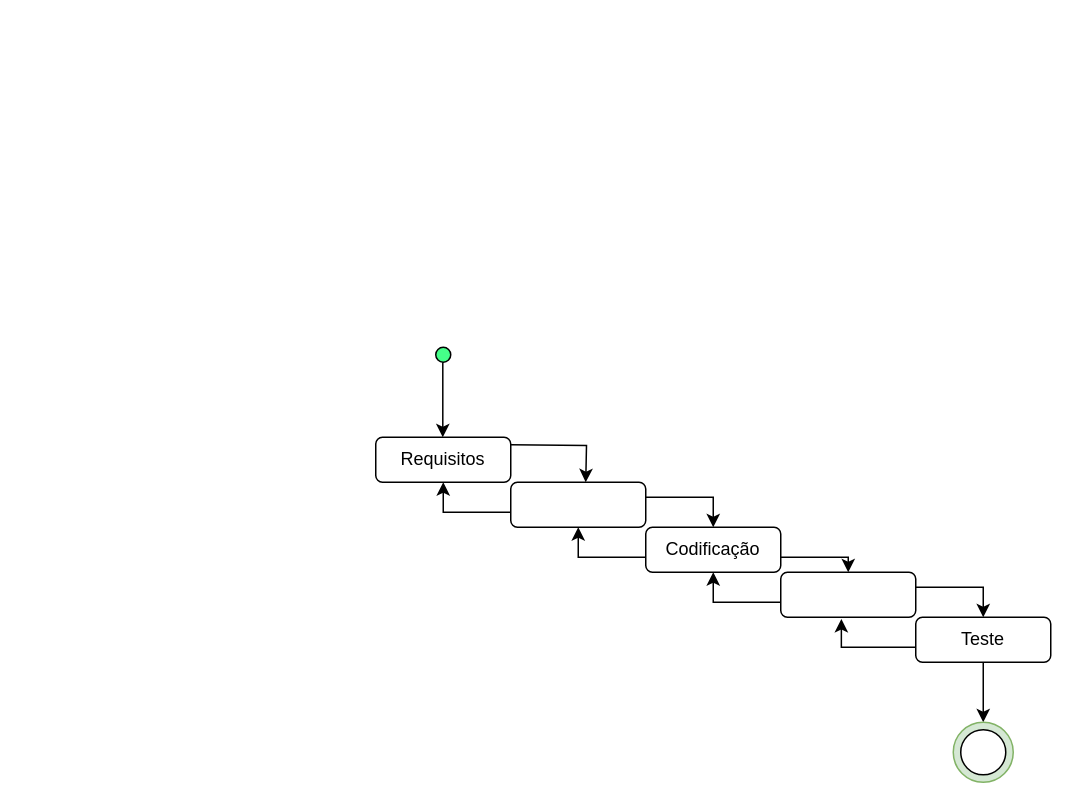
Image size: 1077x810. Some labels were removed from this diagram. The centre of each missing label's shape, as x and y in pixels:
"Análise" goes at [577,504].
"Implementação" goes at [847,594].
